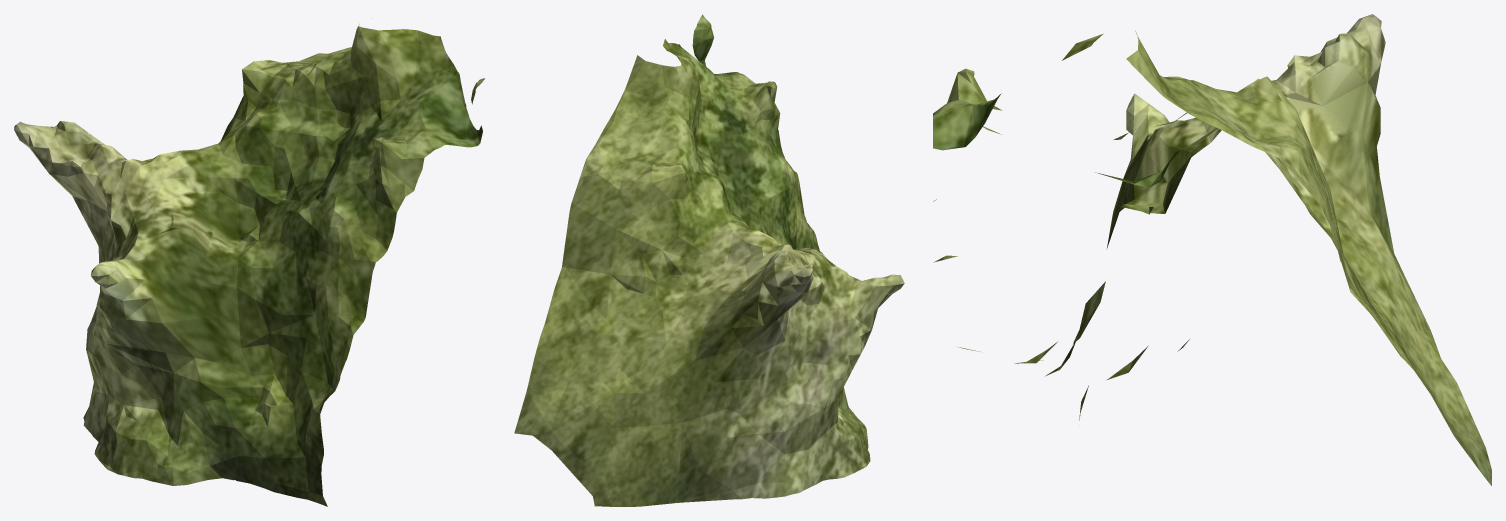
3 views of the same model, side by side, from view 1: azimuth 30°, elevation 25°; view 2: azimuth 150°, elevation 25°; view 3: azimuth 270°, elevation 25° (orthographic). The views are drawn at different scales.
Size of the model in its own units: 4.89 by 5.9 by 5.9.
Materials: 4 (4 with a texture image).
